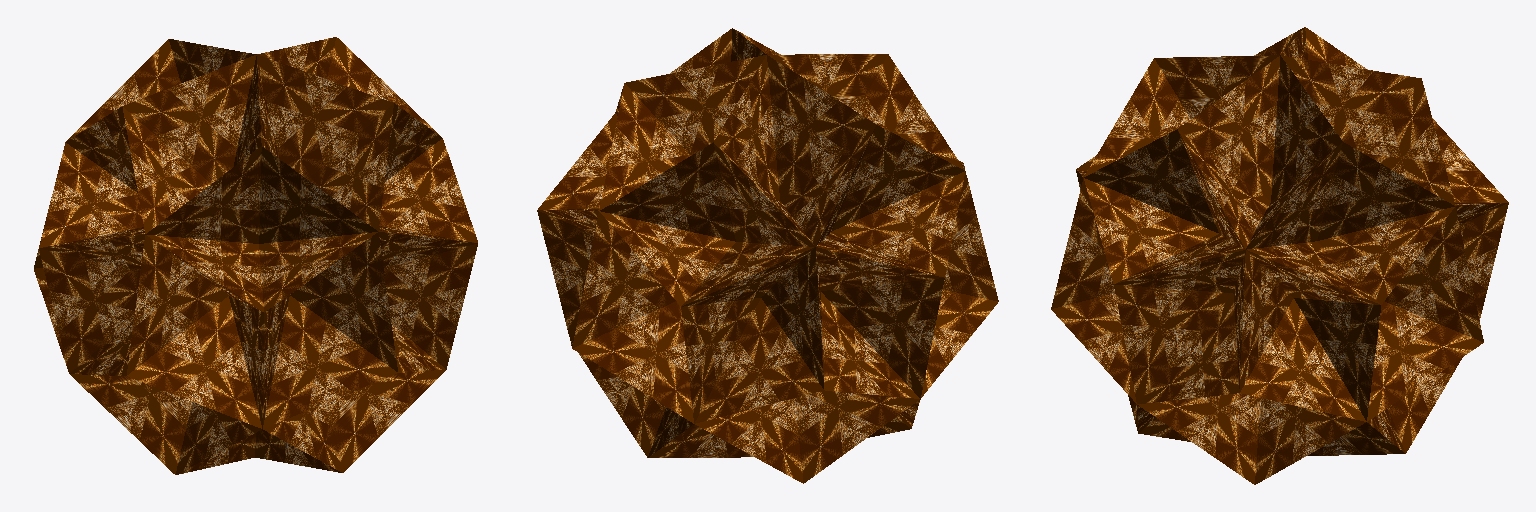
3 views of the same model, side by side, from view 1: azimuth 30°, elevation 25°; view 2: azimuth 150°, elevation 25°; view 3: azimuth 270°, elevation 25° (orthographic).
Size of the model in its own units: 3.09 by 3.02 by 3.11.
1 materials, 1 textured.